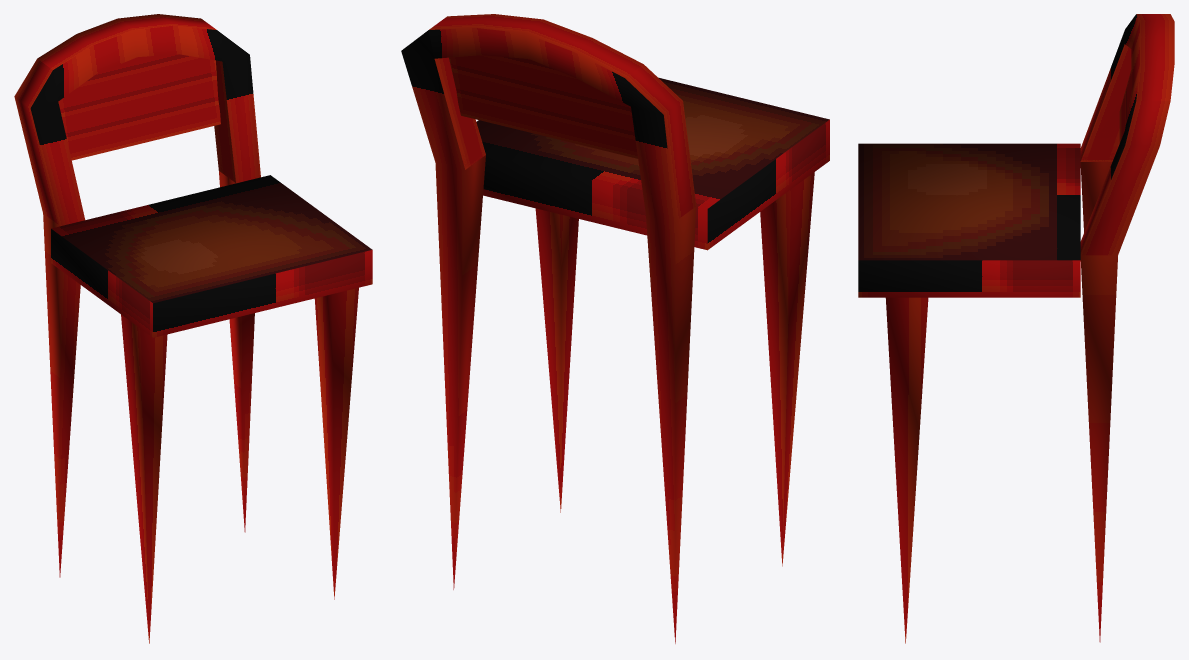
3 renders of one model, left to right at view 1: azimuth 30°, elevation 25°; view 2: azimuth 150°, elevation 25°; view 3: azimuth 270°, elevation 25°, orthographic. The views are drawn at different scales.
Visible parts, largest first — view 1: 3455IMSL01_02; view 2: 3455IMSL01_02; view 3: 3455IMSL01_02.
Boxes of the visible parts, x1=… form: 3455IMSL01_02: x1=14, y1=14, x2=372, y2=643; 3455IMSL01_02: x1=401, y1=14, x2=829, y2=643; 3455IMSL01_02: x1=858, y1=14, x2=1174, y2=643.
Bounding box in the file's own units: 0.8306 × 1.86 × 0.9529.
1 material, 1 textured.
